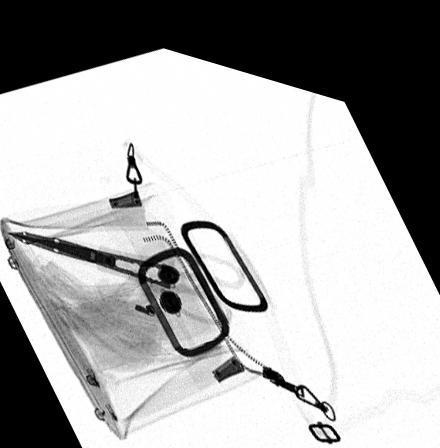Scissors: (0, 227, 245, 311)
